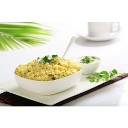venpongal: (15, 55, 81, 79)
